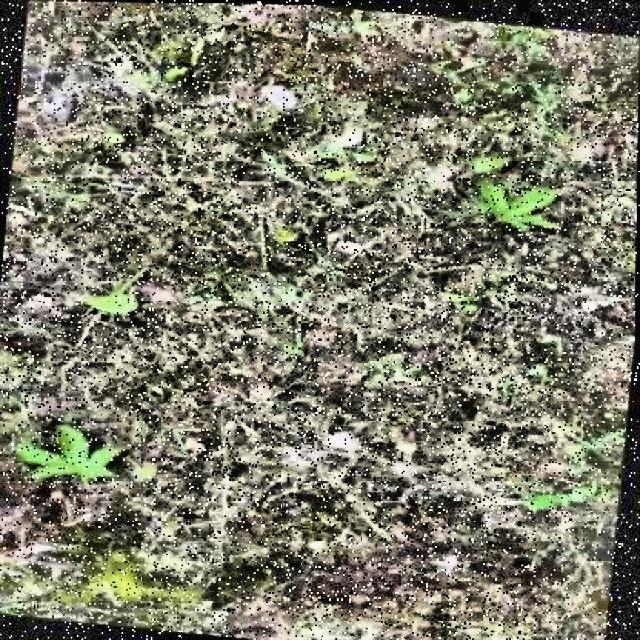Weeds: (10, 415, 124, 491), (471, 172, 564, 235)
